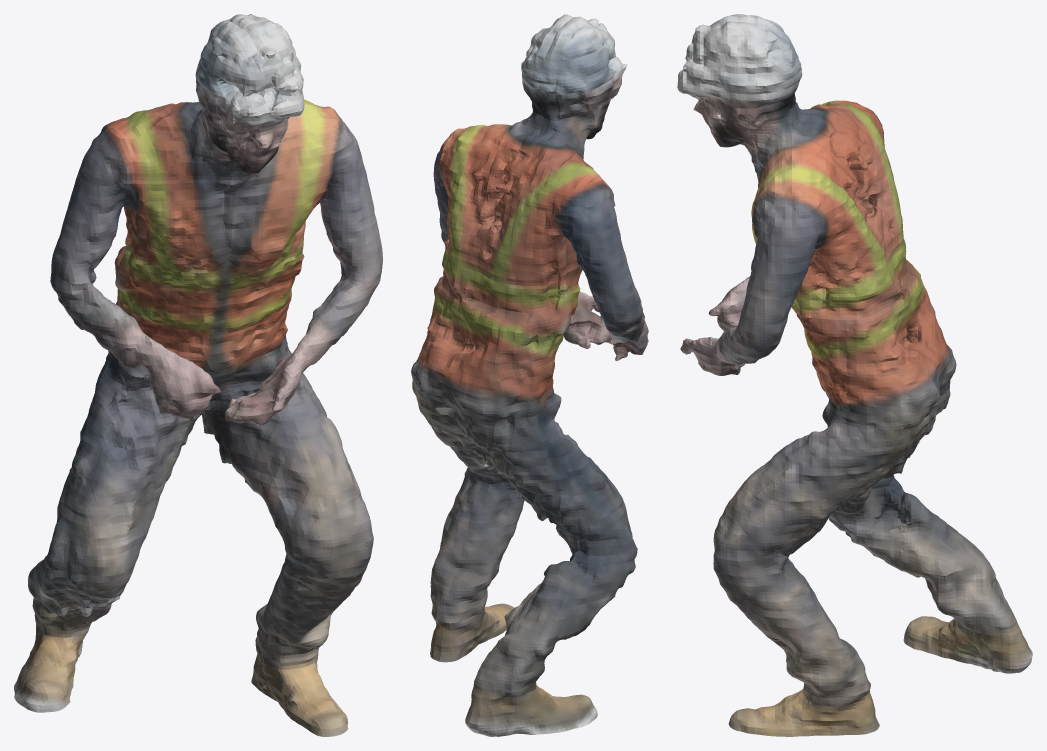
File: standup_11.glb
The picture shows the model from 3 angles, left to right: view 1: azimuth 30°, elevation 25°; view 2: azimuth 150°, elevation 25°; view 3: azimuth 270°, elevation 25°; orthographic projection. The views are drawn at different scales.
Parts seen in each view (by area): view 1: world; view 2: world; view 3: world.
Boxes of the visible parts, x1,y1,x2,y2 form: world: [14, 14, 382, 736]; world: [411, 14, 648, 736]; world: [677, 14, 1032, 736].
Bounding box in the file's own units: 0.6861 × 1.71 × 0.8184.
